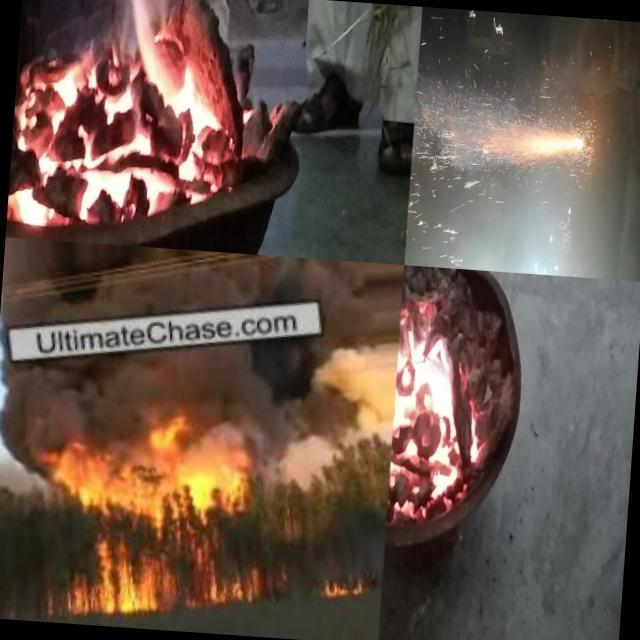fire: (6, 0, 257, 245), (40, 394, 276, 636), (386, 264, 499, 524), (314, 574, 369, 612), (0, 601, 9, 619)
smoke: (267, 338, 398, 504)
